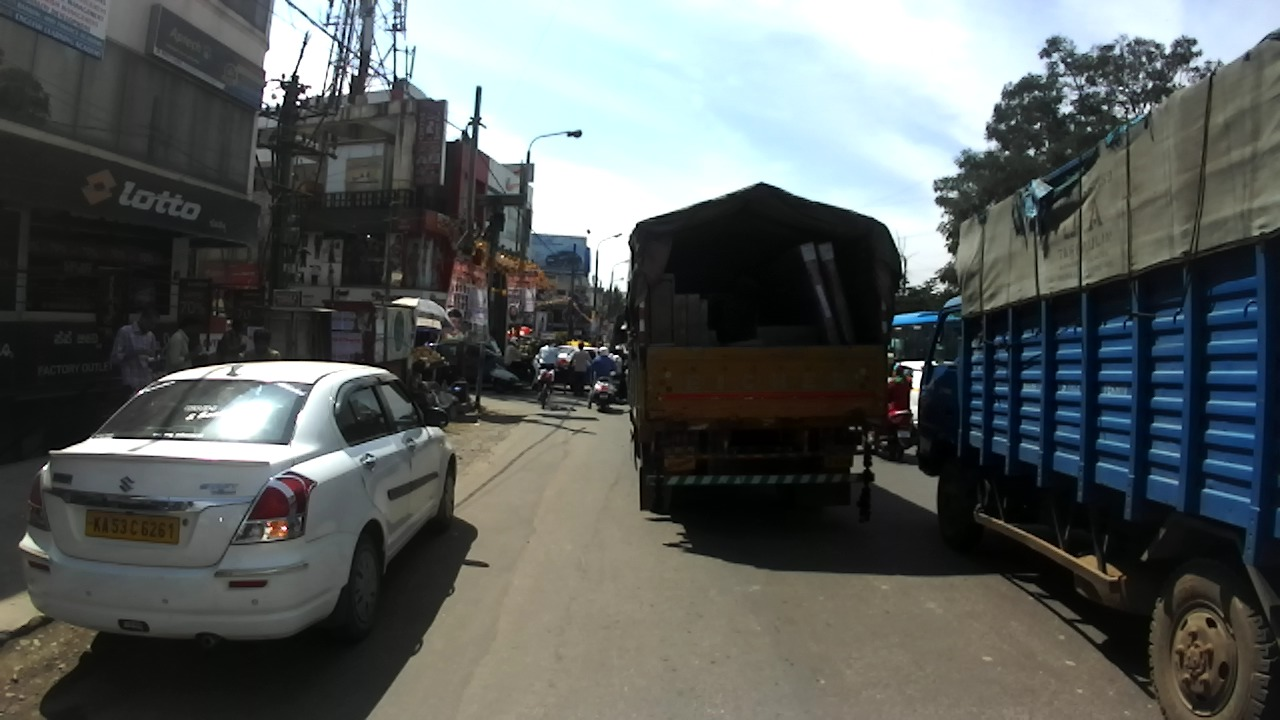bicycle: (537, 369, 555, 408)
bus: (890, 313, 940, 373)
car: (20, 362, 457, 654), (430, 341, 495, 388), (893, 361, 925, 425), (552, 346, 578, 370), (580, 346, 600, 363)
motorcycle: (865, 410, 916, 461), (492, 354, 541, 392), (590, 365, 619, 411)
person: (111, 305, 161, 407), (167, 312, 204, 376), (216, 318, 247, 364), (243, 327, 279, 363), (569, 341, 591, 395), (443, 367, 470, 404), (410, 359, 430, 406)
rider: (589, 346, 614, 409), (537, 338, 559, 403), (887, 363, 913, 413), (506, 336, 531, 384), (609, 347, 627, 398), (614, 344, 631, 375)
truck: (916, 24, 1280, 720), (618, 182, 910, 525)
vehicle fallback: (608, 314, 630, 360), (561, 365, 591, 396)
